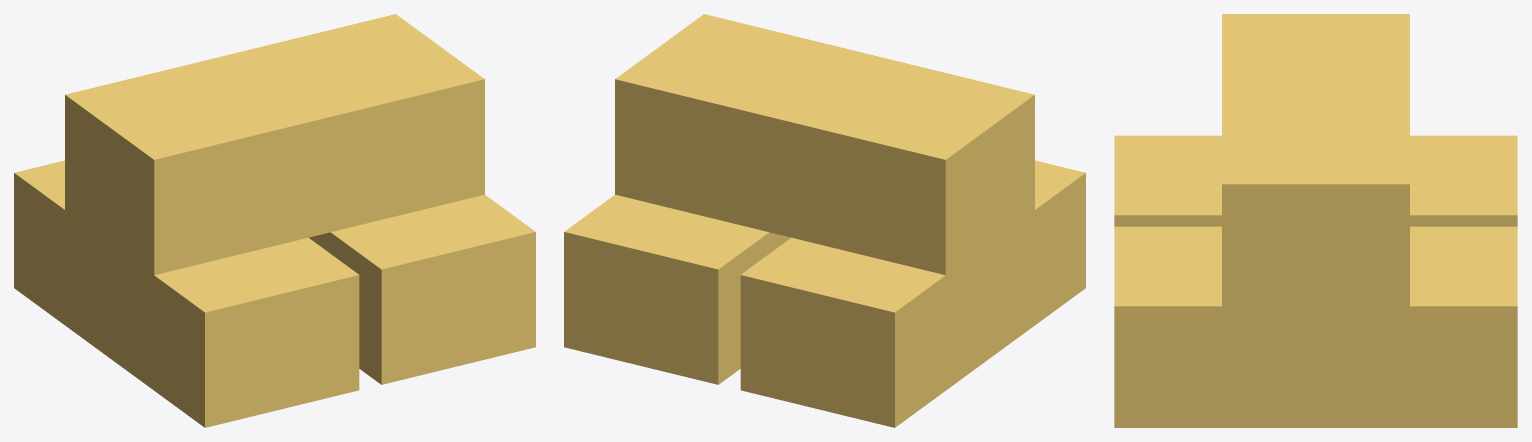
Rendered from bars.glb.
The picture shows the model from 3 angles, left to right: view 1: azimuth 30°, elevation 25°; view 2: azimuth 150°, elevation 25°; view 3: azimuth 270°, elevation 25°; orthographic projection. The views are drawn at different scales.
Parts seen in each view (by area): view 1: bars.glb; view 2: bars.glb; view 3: bars.glb.
Boxes of the visible parts, box(x1,y1,x2,y2) form: bars.glb: box(14, 14, 535, 427); bars.glb: box(564, 14, 1085, 427); bars.glb: box(1114, 14, 1517, 427).
Size of the model in its own units: 0.15 by 0.1 by 0.15.
